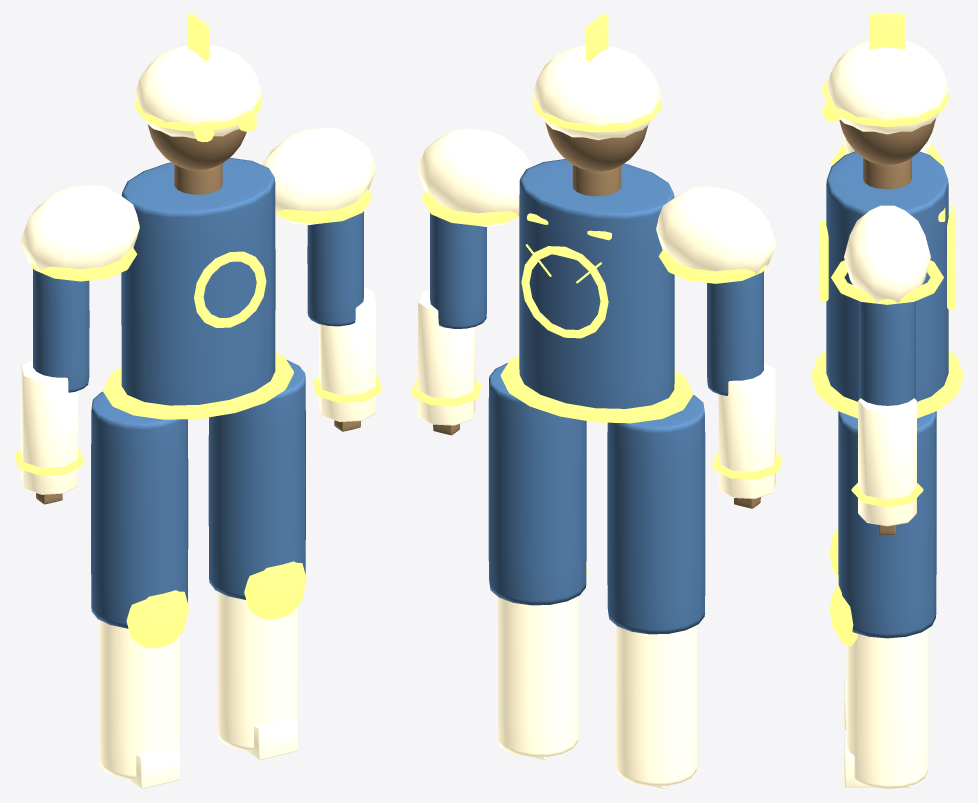
Rendered from SM_LightWarrior_LOD0.fbx.
The picture shows the model from 3 angles, left to right: view 1: azimuth 30°, elevation 25°; view 2: azimuth 150°, elevation 25°; view 3: azimuth 270°, elevation 25°; orthographic projection.
Parts seen in each view (by area): view 1: SM_LW_Torso, SM_LW_UpperLeg_L, SM_LW_UpperLeg_R, SM_LW_LowerLeg_L, SM_LW_LowerLeg_R, SM_LW_Helmet, SM_LW_Pauldron_L, SM_LW_Pauldron_R, SM_LW_Bracer_L, SM_LW_UpperArm_L, SM_LW_UpperArm_R, SM_LW_Bracer_R (+14 smaller); view 2: SM_LW_Torso, SM_LW_UpperLeg_L, SM_LW_UpperLeg_R, SM_LW_LowerLeg_R, SM_LW_LowerLeg_L, SM_LW_Helmet, SM_LW_Pauldron_L, SM_LW_Pauldron_R, SM_LW_Bracer_L, SM_LW_UpperArm_L, SM_LW_UpperArm_R, SM_LW_Bracer_R (+10 smaller); view 3: SM_LW_UpperLeg_R, SM_LW_Torso, SM_LW_LowerLeg_R, SM_LW_Helmet, SM_LW_Bracer_R, SM_LW_Pauldron_R, SM_LW_UpperArm_R, SM_LW_Head, SM_LW_Belt, SM_LW_PauldronTrim_R, SM_LW_HelmetCrest, SM_LW_Neck (+8 smaller).
Boxes of the visible parts, <box> form: SM_LW_Torso: <box>121,157,275,405</box>; SM_LW_UpperLeg_L: <box>91,392,188,628</box>; SM_LW_UpperLeg_R: <box>208,359,305,599</box>; SM_LW_LowerLeg_L: <box>99,620,179,779</box>; SM_LW_LowerLeg_R: <box>217,591,297,750</box>; SM_LW_Helmet: <box>135,45,261,138</box>; SM_LW_Pauldron_L: <box>20,185,139,272</box>; SM_LW_Pauldron_R: <box>262,127,376,225</box>; SM_LW_Bracer_L: <box>21,360,77,494</box>; SM_LW_UpperArm_L: <box>33,268,89,392</box>; SM_LW_UpperArm_R: <box>307,211,363,326</box>; SM_LW_Bracer_R: <box>319,287,375,421</box>; SM_LW_Torso: <box>519,159,674,408</box>; SM_LW_UpperLeg_L: <box>607,395,705,634</box>; SM_LW_UpperLeg_R: <box>488,363,586,605</box>; SM_LW_LowerLeg_R: <box>497,596,578,757</box>; SM_LW_LowerLeg_L: <box>615,625,696,786</box>; SM_LW_Helmet: <box>532,45,660,140</box>; SM_LW_Pauldron_L: <box>656,186,776,274</box>; SM_LW_Pauldron_R: <box>417,128,532,226</box>; SM_LW_Bracer_L: <box>718,363,775,498</box>; SM_LW_UpperArm_L: <box>707,271,763,395</box>; SM_LW_UpperArm_R: <box>430,213,486,328</box>; SM_LW_Bracer_R: <box>418,290,475,425</box>; SM_LW_UpperLeg_R: <box>838,412,936,638</box>; SM_LW_Torso: <box>826,151,948,401</box>; SM_LW_LowerLeg_R: <box>846,628,928,788</box>; SM_LW_Helmet: <box>826,41,948,134</box>; SM_LW_Bracer_R: <box>858,398,916,526</box>; SM_LW_Pauldron_R: <box>844,205,930,302</box>; SM_LW_UpperArm_R: <box>859,301,915,405</box>; SM_LW_Head: <box>839,118,935,164</box>; SM_LW_Belt: <box>811,350,963,418</box>; SM_LW_PauldronTrim_R: <box>831,260,943,304</box>; SM_LW_HelmetCrest: <box>869,14,905,49</box>; SM_LW_Neck: <box>863,158,911,189</box>.
Bounding box in the file's own units: 0.92 × 1.79 × 0.3375.
